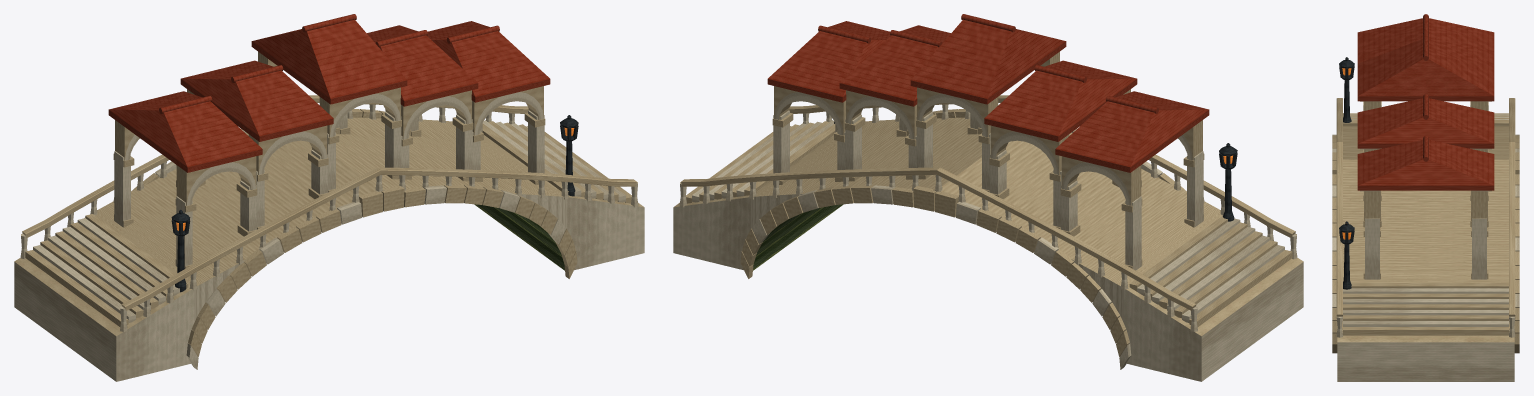
Rendered from venice_rialto_arcade_mid.glb.
3 views of the same model, side by side, from view 1: azimuth 30°, elevation 25°; view 2: azimuth 150°, elevation 25°; view 3: azimuth 270°, elevation 25° (orthographic). The views are drawn at different scales.
Visible parts, largest first — view 1: venice_rialto_arcade_mid; view 2: venice_rialto_arcade_mid; view 3: venice_rialto_arcade_mid.
Part boxes in pixels (<box>): venice_rialto_arcade_mid: <box>14,14,644,381</box>; venice_rialto_arcade_mid: <box>673,14,1303,381</box>; venice_rialto_arcade_mid: <box>1332,14,1519,381</box>.
Bounding box in the file's own units: 24 × 11.5 × 8.5.
Materials: 2 (2 with a texture image).
